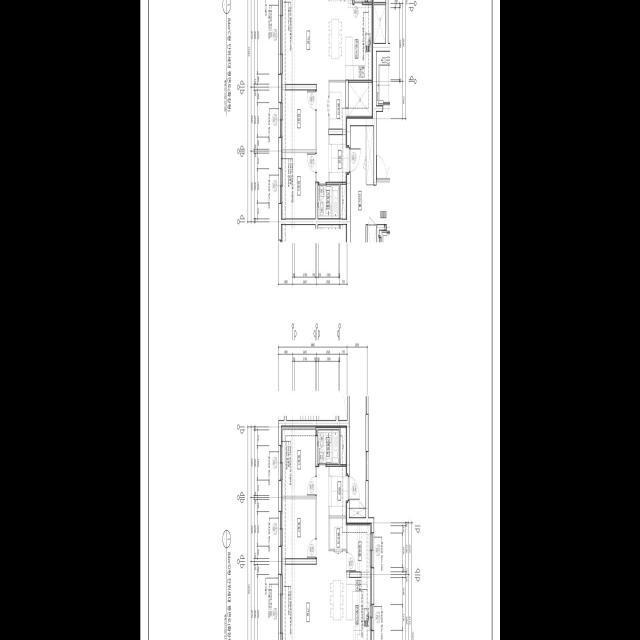background: (140, 0, 500, 640)
space_bedroom: (281, 426, 315, 496), (281, 153, 315, 219), (281, 499, 315, 559), (281, 90, 315, 150)
space_elevator: (376, 51, 390, 106), (379, 230, 390, 242)
space_elevator_hall: (350, 111, 390, 242)
space_front: (328, 467, 348, 516), (329, 135, 349, 182)
space_kitchen: (328, 551, 371, 640), (328, 0, 372, 84)
space_living_room: (281, 0, 328, 182), (281, 467, 328, 640)
space_other: (349, 396, 366, 508), (347, 524, 371, 572), (348, 83, 372, 118), (329, 87, 346, 129), (330, 518, 346, 549), (374, 5, 385, 43), (366, 126, 373, 184), (340, 426, 346, 464), (340, 185, 346, 219), (368, 225, 376, 242), (349, 509, 365, 517)
space_toilet: (318, 430, 339, 464), (318, 185, 339, 219)
